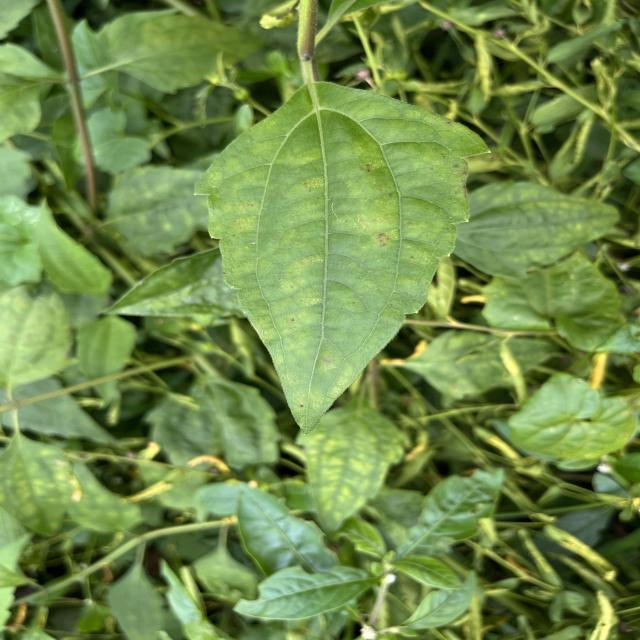Chromolaena odorata: (188, 78, 496, 440)
